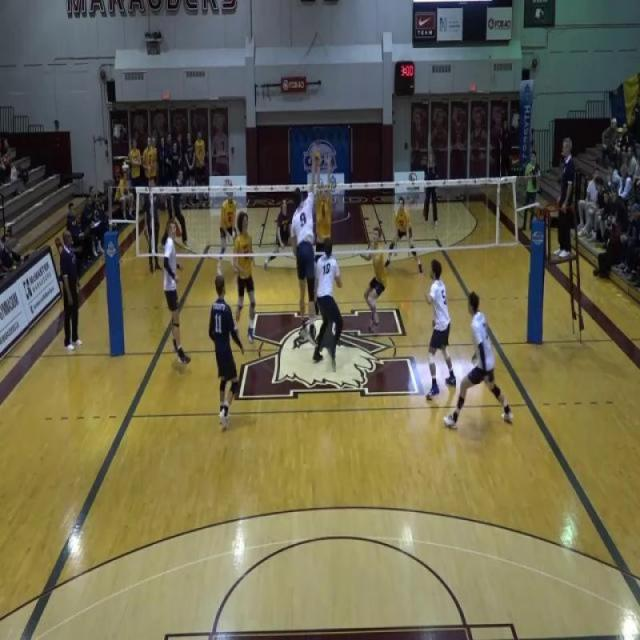volleyball: (314, 150, 321, 163)
